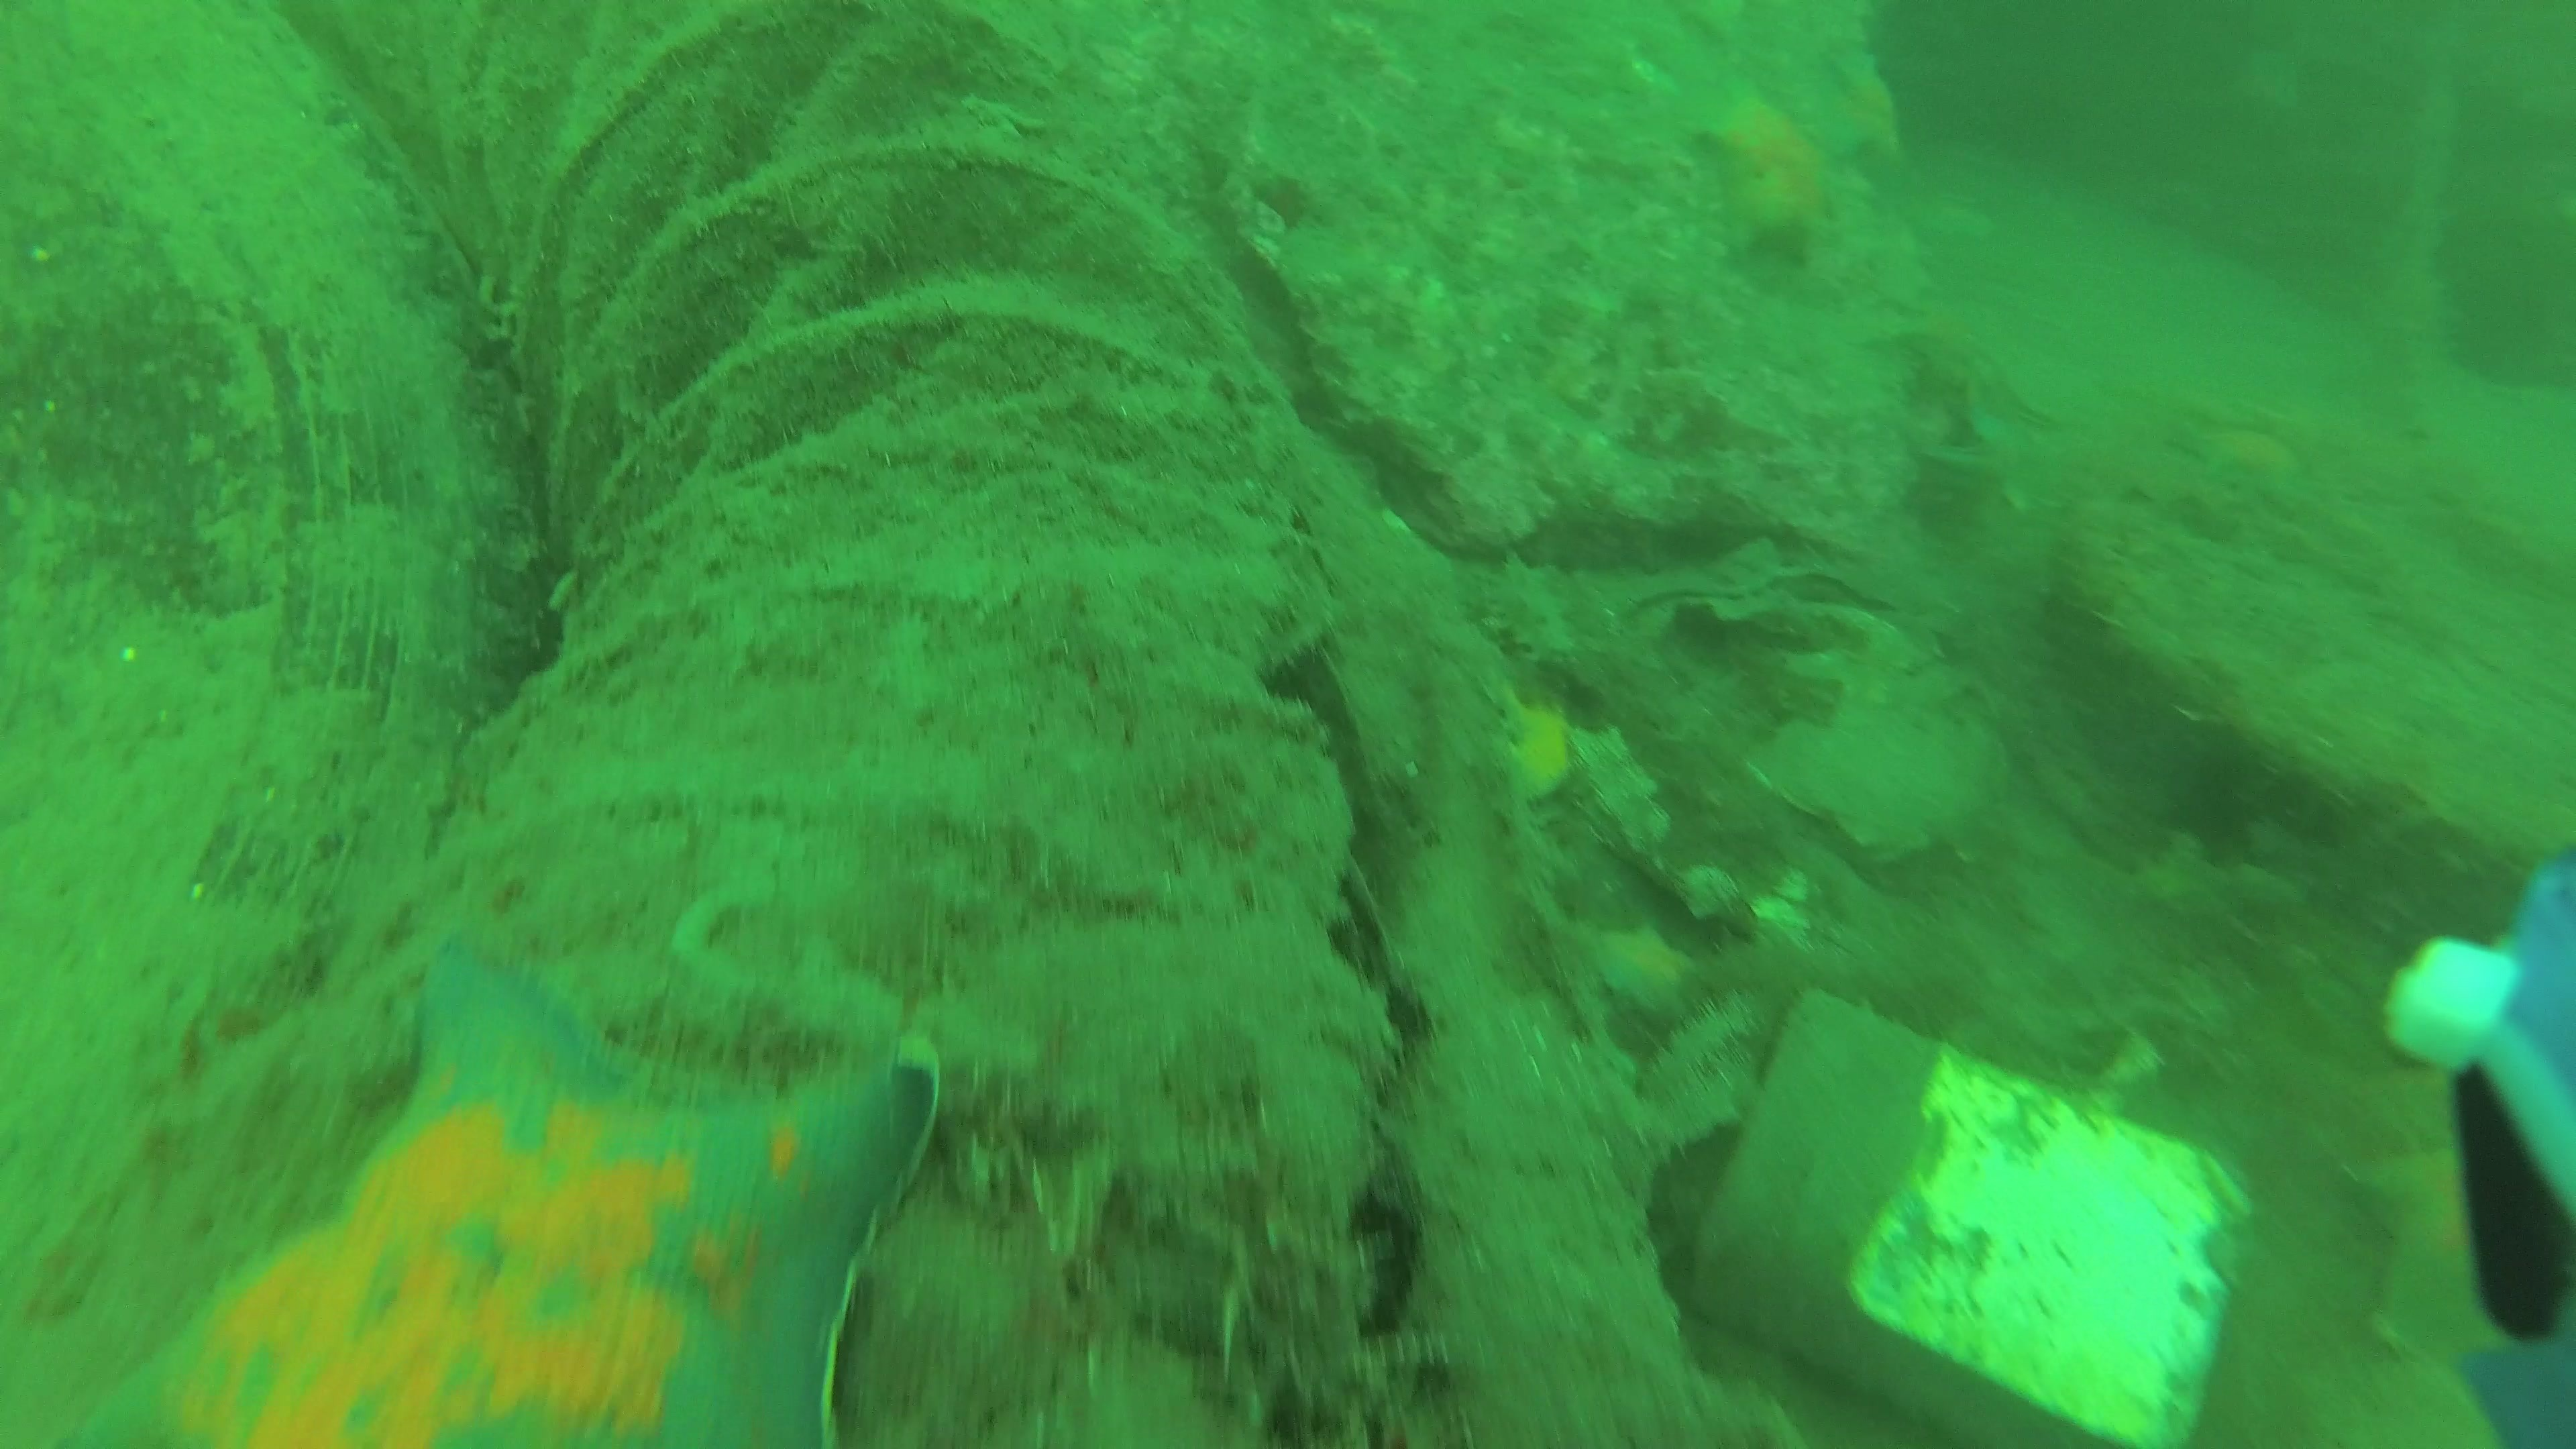starfish: (64, 941, 941, 1449), (1686, 87, 1844, 267), (1576, 916, 1704, 1021), (2187, 418, 2323, 506)
